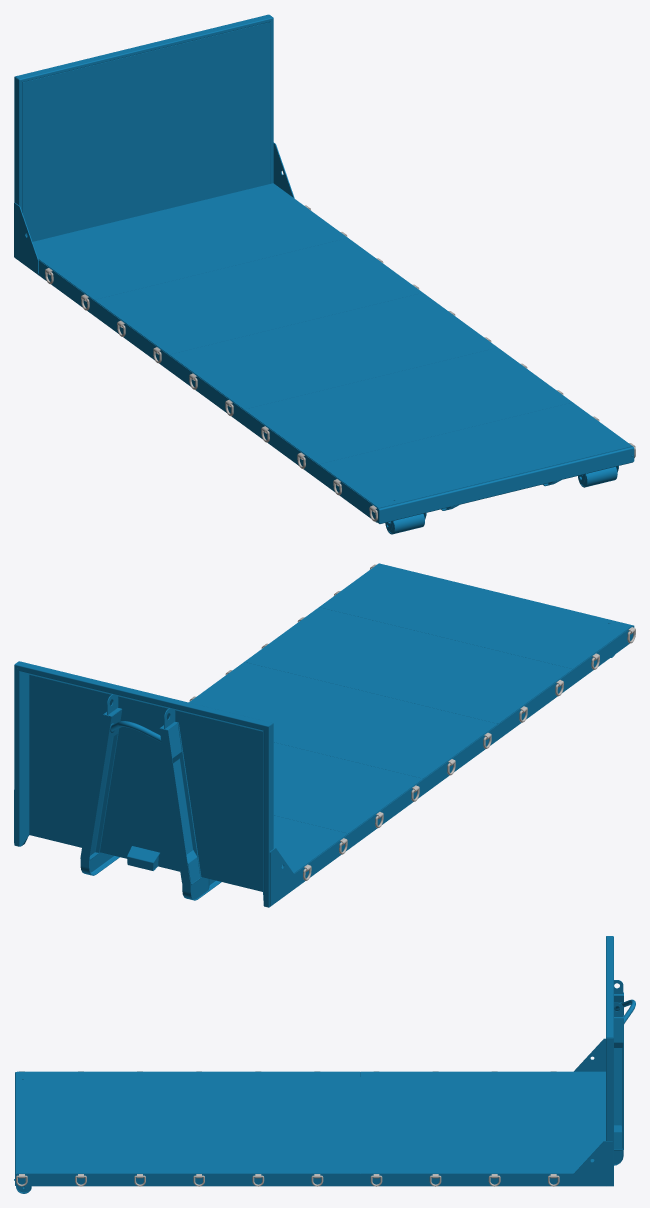
3 renders of one model, top to bottom at view 1: azimuth 30°, elevation 25°; view 2: azimuth 150°, elevation 25°; view 3: azimuth 270°, elevation 25°, orthographic. The views are drawn at different scales.
Visible parts, largest first — view 1: Solid1 (×10), Solid2; view 2: Solid1 (×15), Solid2 (×2); view 3: Solid1 (×10), Solid2.
Boxes of the visible parts, <box> form: Solid1 (×10): <box>14,14,634,523</box>; Solid2: <box>19,260,378,523</box>; Solid1 (×15): <box>14,563,632,907</box>; Solid2 (×2): <box>159,626,633,903</box>; Solid1 (×10): <box>17,936,623,1186</box>; Solid2: <box>15,1173,605,1186</box>.
Bounding box in the file's own units: 2.52 × 1.82 × 6.31.
